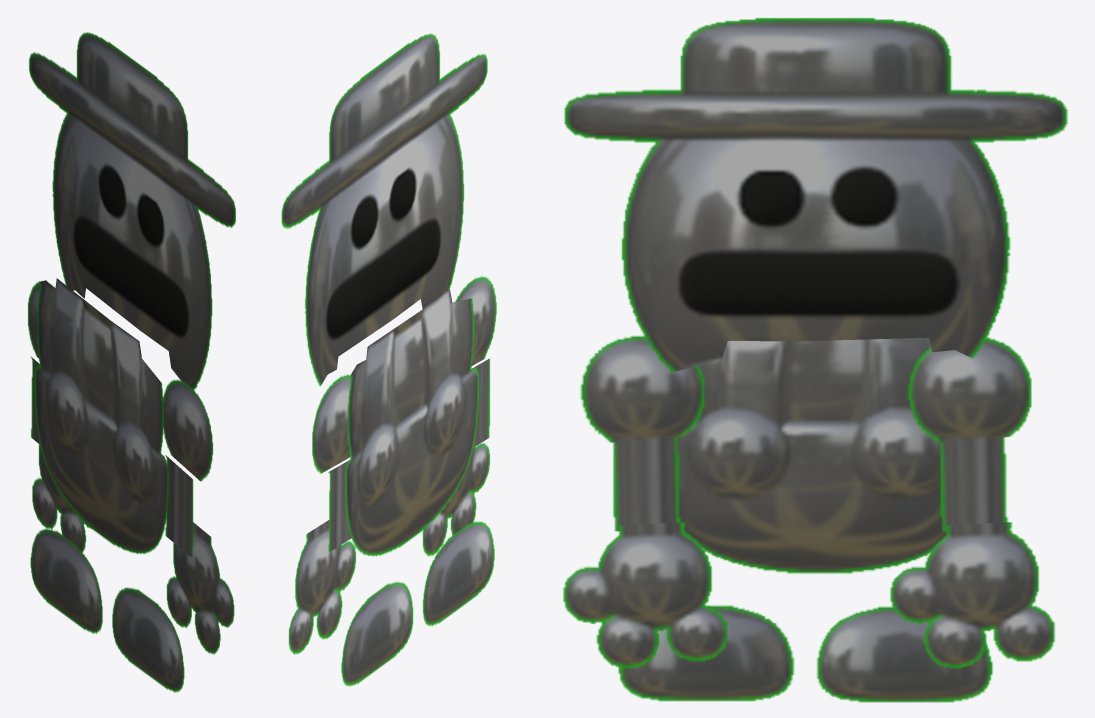
The model's file is DoctorBubble.glb.
3 renders of one model, left to right at view 1: azimuth 30°, elevation 25°; view 2: azimuth 150°, elevation 25°; view 3: azimuth 270°, elevation 25°, orthographic. The views are drawn at different scales.
Parts seen in each view (by area): view 1: Plane.002; view 2: Plane.002; view 3: Plane.002.
Part boxes in pixels (x1,y1,x2,y2): Plane.002: (28, 32, 235, 692); Plane.002: (281, 33, 496, 686); Plane.002: (563, 18, 1067, 702).
Bounding box in the file's own units: 0.1041 × 1.98 × 1.38.
Materials: 1 (1 with a texture image).
